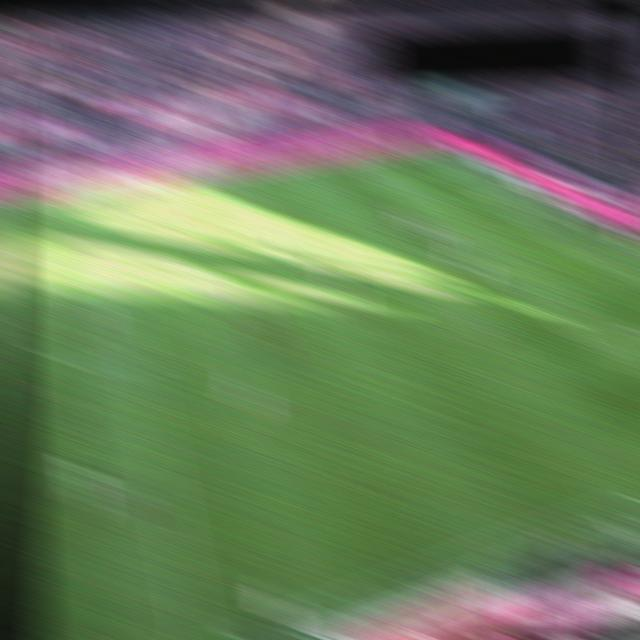bigarea_bottom_inner: (574, 336, 606, 356)
bigarea_top_inner: (364, 176, 397, 197)
bigarea_top_outter: (464, 162, 498, 182)
bottom_arc_area_intersection: (481, 266, 514, 286)
corner: (418, 139, 450, 158)
halfcircle_bottom: (120, 351, 156, 374)
halfcircle_top: (98, 255, 139, 277)
midline_top_intersection: (84, 182, 120, 202)
smallarea_bottom_inner: (583, 257, 616, 277)
smallarea_bottom_outter: (624, 248, 640, 267)
smallarea_top_inner: (480, 195, 513, 215)
smallarea_top_outter: (513, 190, 547, 210)
top_arc_area_intersection: (410, 213, 444, 233)
